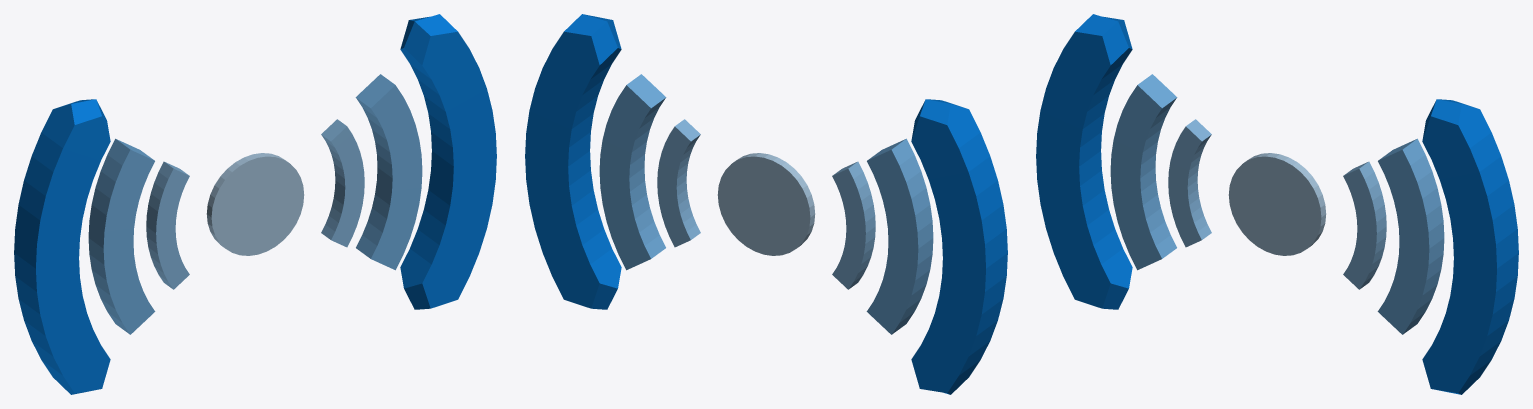
The model's file is Wheel2.fbx.
3 renders of one model, left to right at view 1: azimuth 30°, elevation 25°; view 2: azimuth 150°, elevation 25°; view 3: azimuth 330°, elevation 25°, orthographic.
Parts seen in each view (by area): view 1: RO, LO, RM, LM, Center, RI, LI; view 2: LO, RO, RM, LM, Center, RI, LI; view 3: LO, RO, RM, LM, Center, RI, LI.
Part boxes in pixels (x1,y1,x2,y2): RO: [14, 99, 110, 394]; LO: [400, 14, 496, 309]; RM: [88, 138, 155, 334]; LM: [355, 74, 422, 270]; Center: [206, 153, 304, 255]; RI: [146, 161, 189, 289]; LI: [321, 119, 364, 247]; LO: [525, 14, 621, 309]; RO: [911, 99, 1007, 394]; RM: [866, 138, 933, 334]; LM: [599, 74, 666, 270]; Center: [717, 153, 815, 255]; RI: [832, 161, 875, 289]; LI: [657, 119, 700, 247]; LO: [1422, 99, 1518, 394]; RO: [1036, 14, 1132, 309]; RM: [1110, 74, 1177, 270]; LM: [1377, 138, 1444, 334]; Center: [1228, 153, 1326, 255]; RI: [1168, 119, 1211, 247]; LI: [1343, 161, 1386, 289].
Bounding box in the file's own units: 441 × 266 × 36.37.
